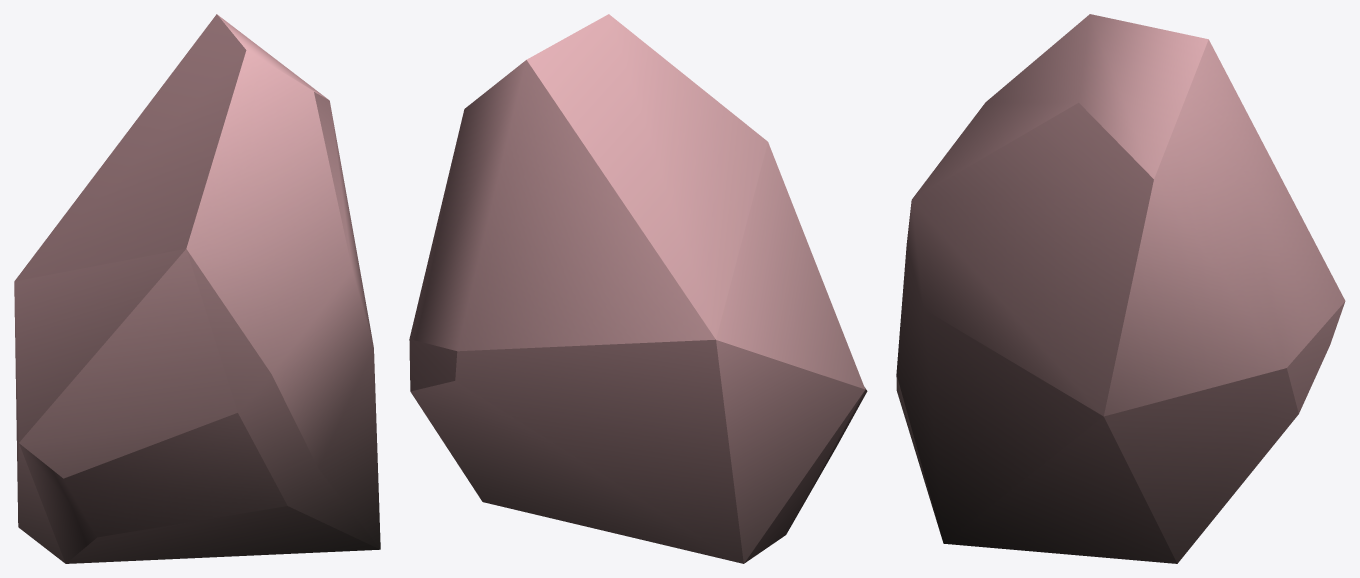
The model's file is Dino_Rock2.fbx.
3 renders of one model, left to right at view 1: azimuth 30°, elevation 25°; view 2: azimuth 150°, elevation 25°; view 3: azimuth 270°, elevation 25°, orthographic. The views are drawn at different scales.
Parts seen in each view (by area): view 1: rock1; view 2: rock1; view 3: rock1.
Part boxes in pixels (bbox=[...]): rock1: bbox=[14, 14, 380, 563]; rock1: bbox=[409, 14, 867, 563]; rock1: bbox=[896, 14, 1345, 563].
Size of the model in its own units: 1.02 by 1.25 by 1.
